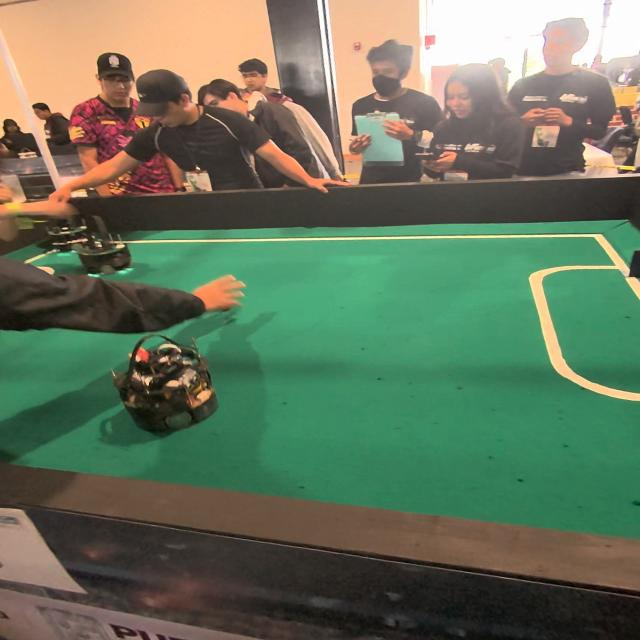Robot: (108, 333, 222, 440), (61, 219, 135, 273)
